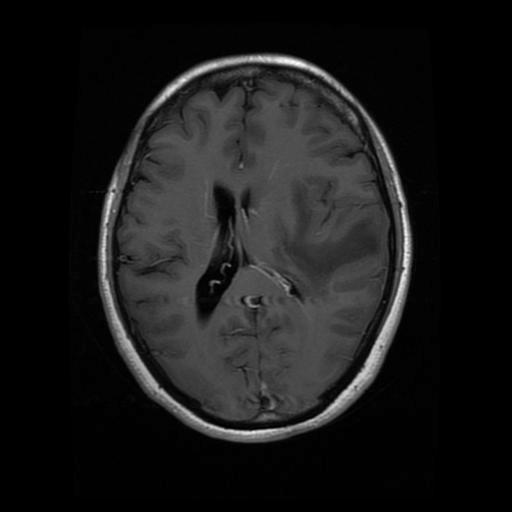Tumour-Glioma: (267, 209, 350, 305)
